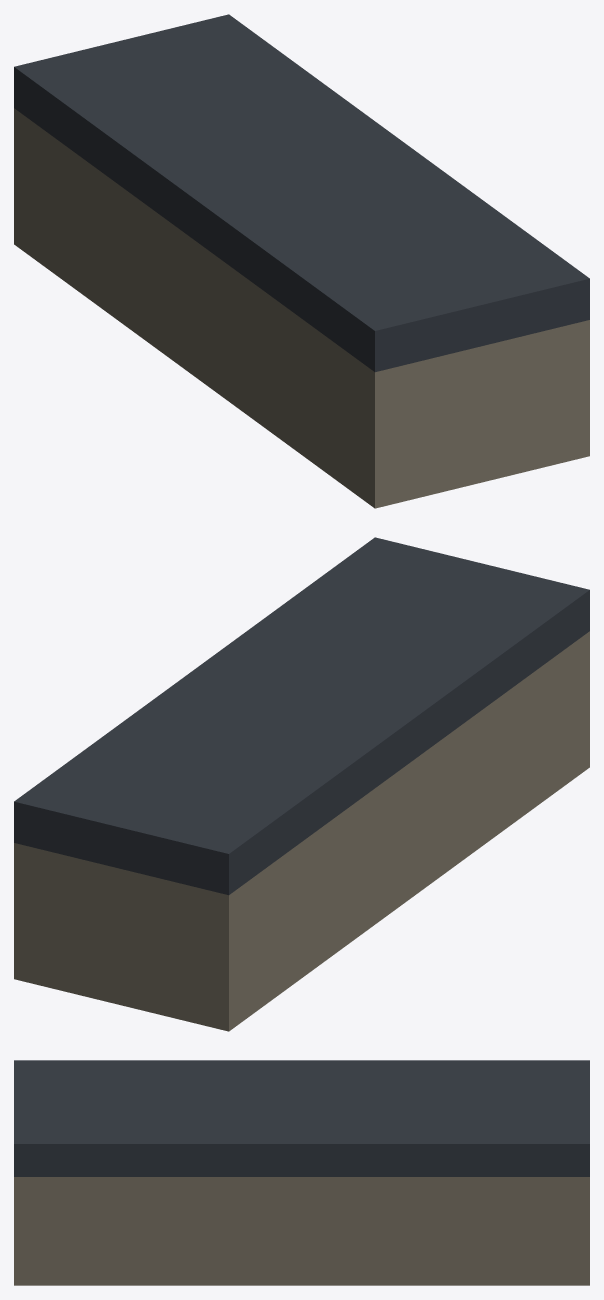
Rendered from fort-hall.tone-v1.lod2.glb.
3 views of the same model, one above another, from view 1: azimuth 30°, elevation 25°; view 2: azimuth 150°, elevation 25°; view 3: azimuth 270°, elevation 25° (orthographic). The views are drawn at different scales.
Parts seen in each view (by area): view 1: fort-hall; view 2: fort-hall; view 3: fort-hall.
Boxes of the visible parts, x1,y1,x2,y2 form: fort-hall: (14,14,589,508); fort-hall: (14,537,589,1031); fort-hall: (14,1060,589,1285).
Bounding box in the file's own units: 16.5 × 13.03 × 48.
